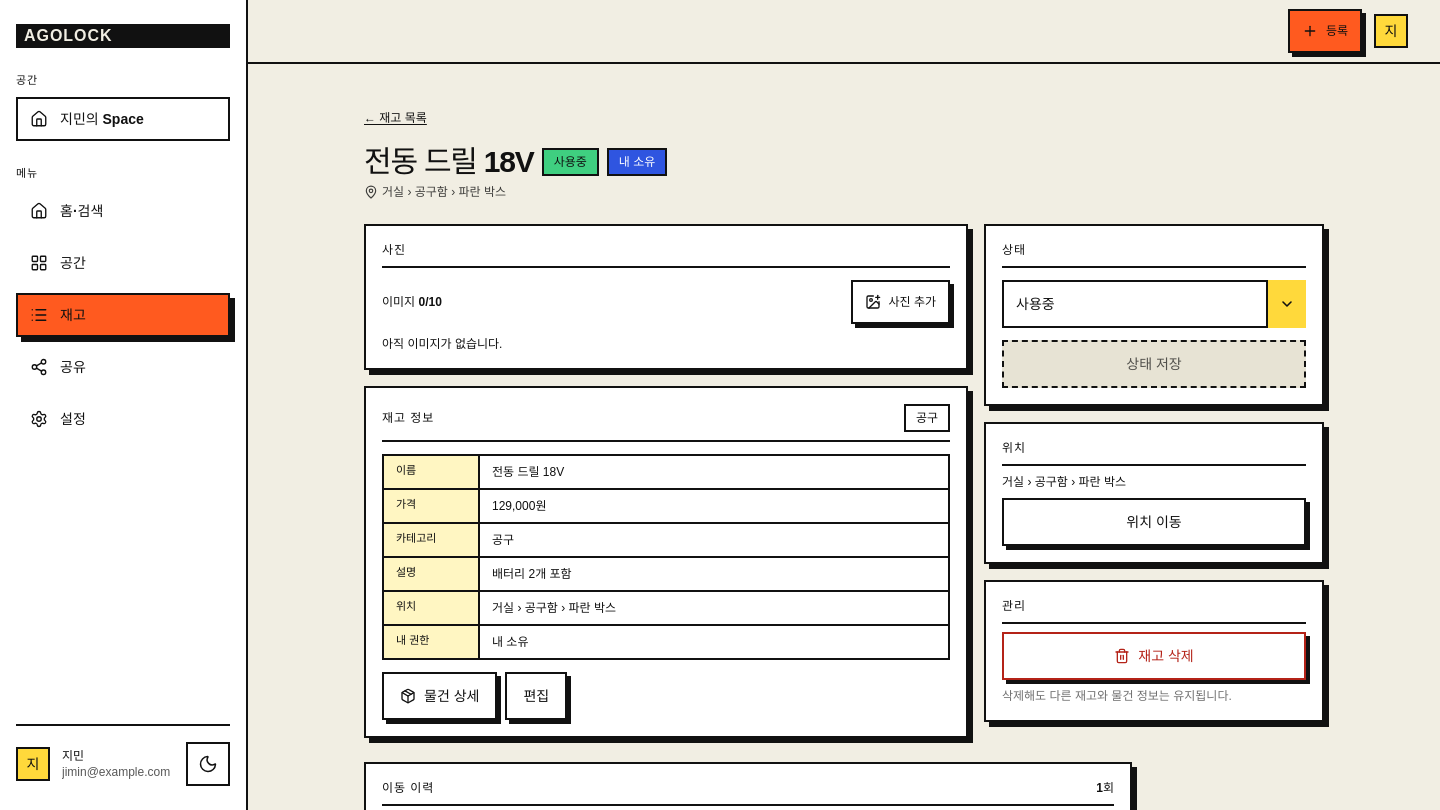
Test: 재고 상세 › 폐기 상태는 확인 후 저장한다
The width and height of the screenshot is (1440, 810).
Select "폐기" in the dropdown named "재고 상태": (1154,304) [1002, 280, 1306, 328]
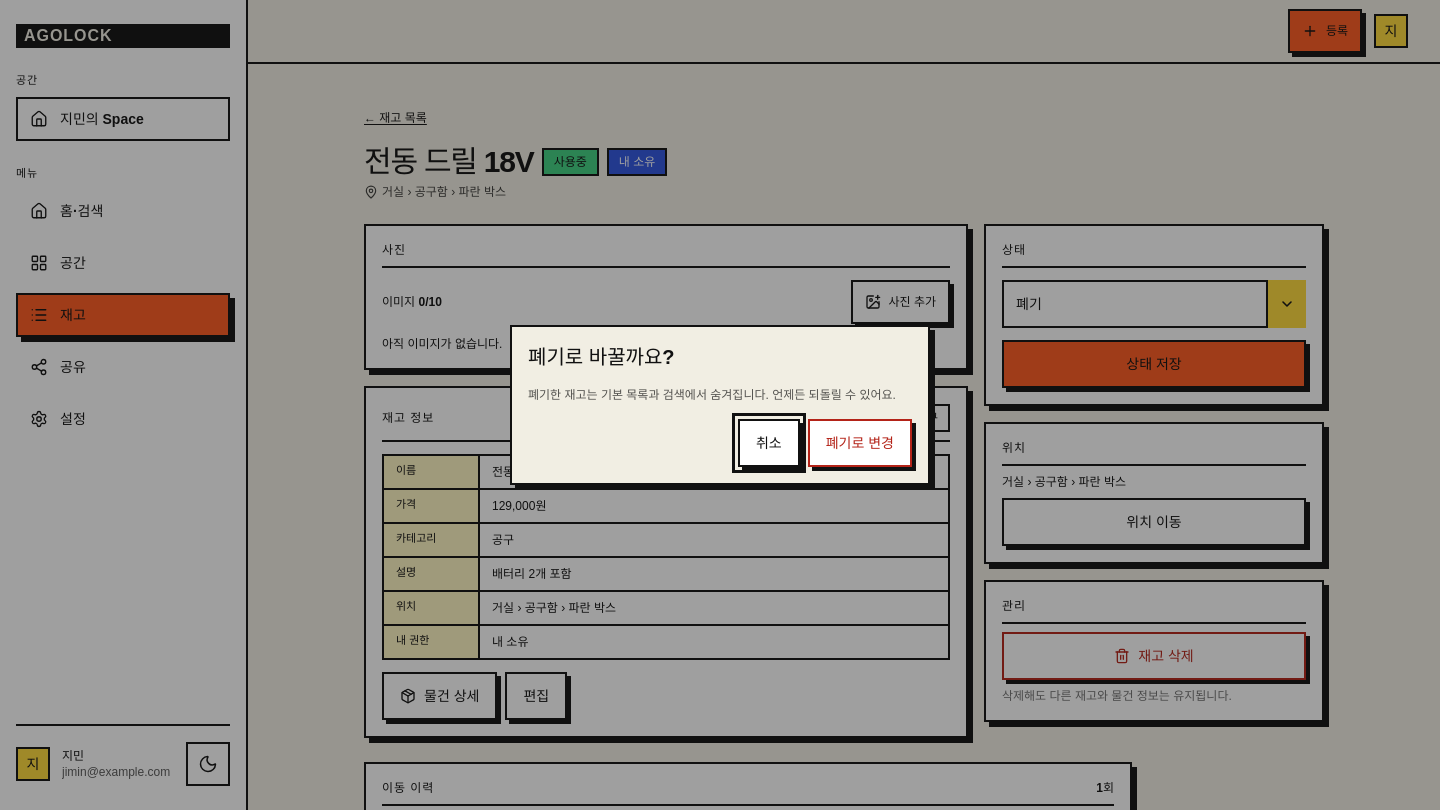
Check: the heading "폐기로 바꿀까요?" is shown, box [528, 346, 675, 368]
Click the button "폐기로 변경": (860,443) [808, 419, 912, 467]
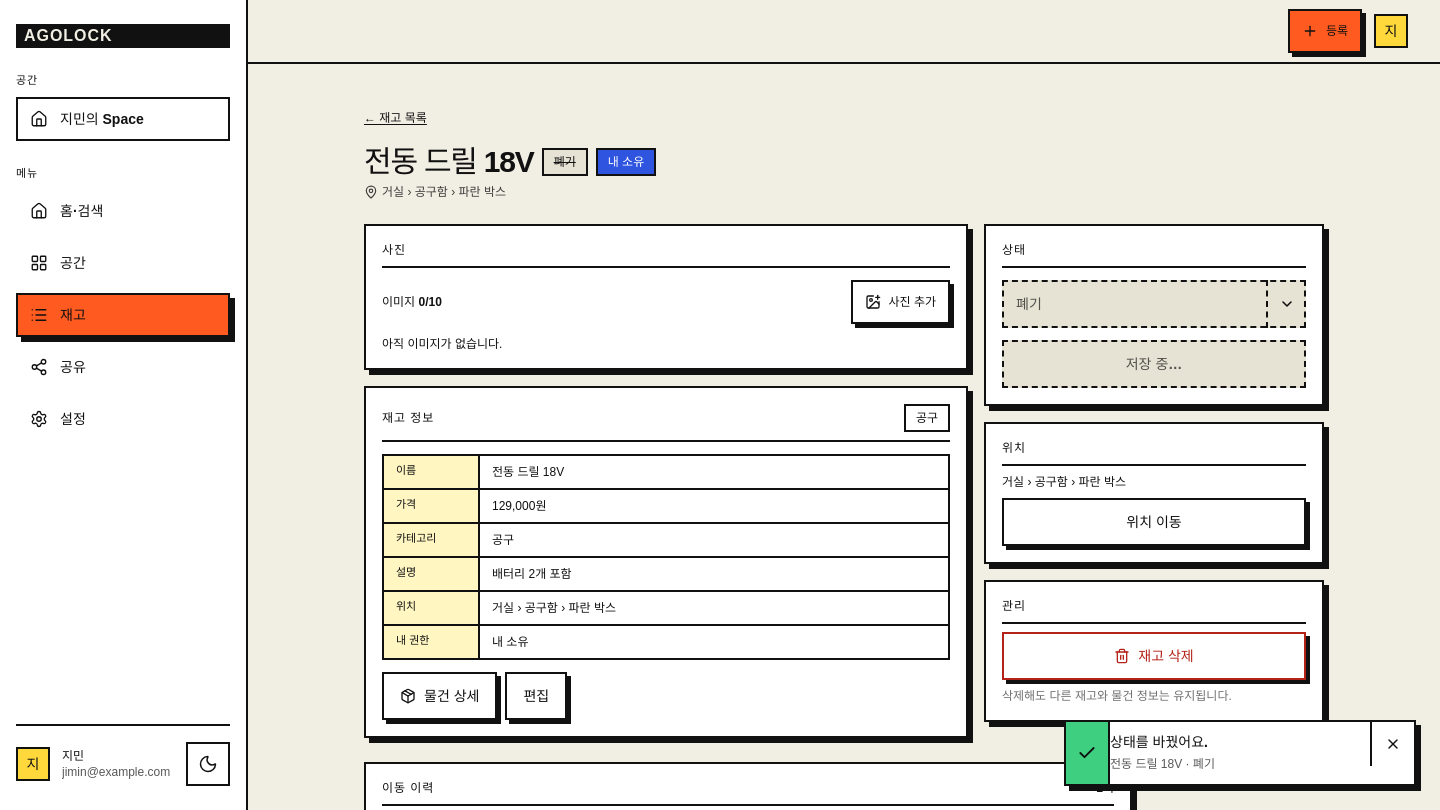
Check: the text "상태를 바꿨어요." is shown, box [1110, 734, 1208, 750]
